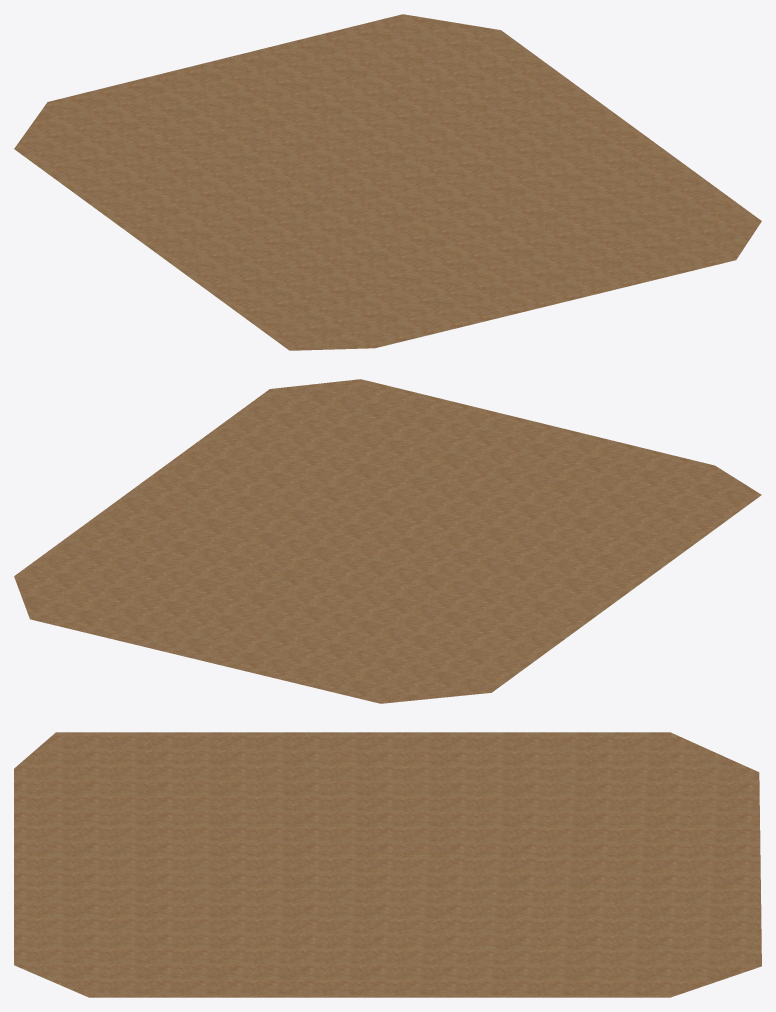
Rendered from guchengqishituan_qiangzhuan_02.FBX.
3 views of the same model, one above another, from view 1: azimuth 30°, elevation 25°; view 2: azimuth 150°, elevation 25°; view 3: azimuth 270°, elevation 25° (orthographic). The views are drawn at different scales.
Parts seen in each view (by area): view 1: guchengqishituan_qiangzhuan_2; view 2: guchengqishituan_qiangzhuan_2; view 3: guchengqishituan_qiangzhuan_2.
Part boxes in pixels (x1,y1,x2,y2): guchengqishituan_qiangzhuan_2: [14, 14, 761, 350]; guchengqishituan_qiangzhuan_2: [14, 379, 761, 703]; guchengqishituan_qiangzhuan_2: [14, 732, 761, 997].
Size of the model in its own units: 3349 by 0.000106 by 3994.
